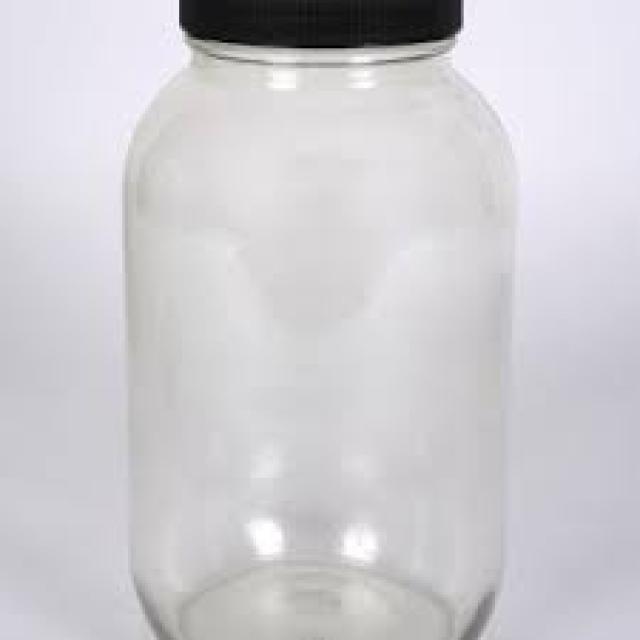glass: (122, 34, 512, 637)
plastic: (173, 0, 458, 54)
